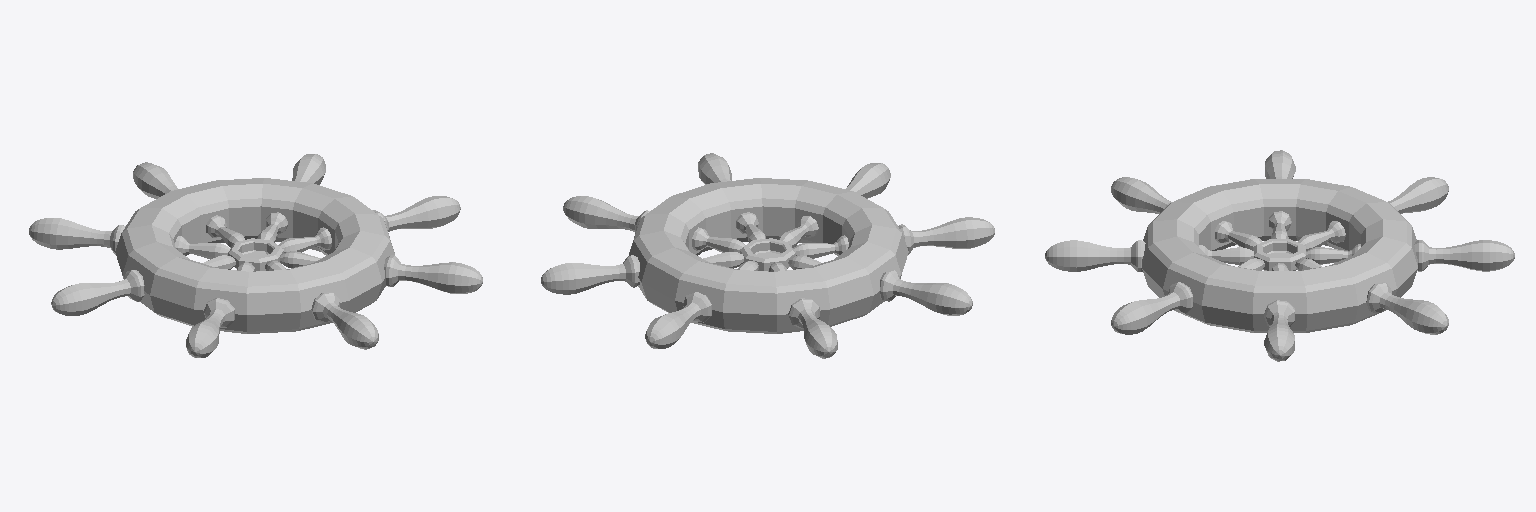
The model's file is wheel.obj.
3 views of the same model, side by side, from view 1: azimuth 30°, elevation 25°; view 2: azimuth 150°, elevation 25°; view 3: azimuth 270°, elevation 25° (orthographic).
Parts seen in each view (by area): view 1: 圆环, 放样.8, 圆柱; view 2: 圆环, 放样.8, 圆柱; view 3: 圆环, 放样.8, 圆柱.
Boxes of the visible parts, x1=… form: 圆环: x1=115, y1=178, x2=394, y2=333; 放样.8: x1=29, y1=154, x2=482, y2=357; 圆柱: x1=228, y1=238, x2=283, y2=271; 圆环: x1=629, y1=178, x2=908, y2=333; 放样.8: x1=541, y1=153, x2=994, y2=358; 圆柱: x1=740, y1=238, x2=795, y2=271; 圆环: x1=1142, y1=179, x2=1417, y2=332; 放样.8: x1=1045, y1=150, x2=1514, y2=361; 圆柱: x1=1254, y1=239, x2=1305, y2=270.
Size of the model in its own units: 10.92 by 1.45 by 10.92.